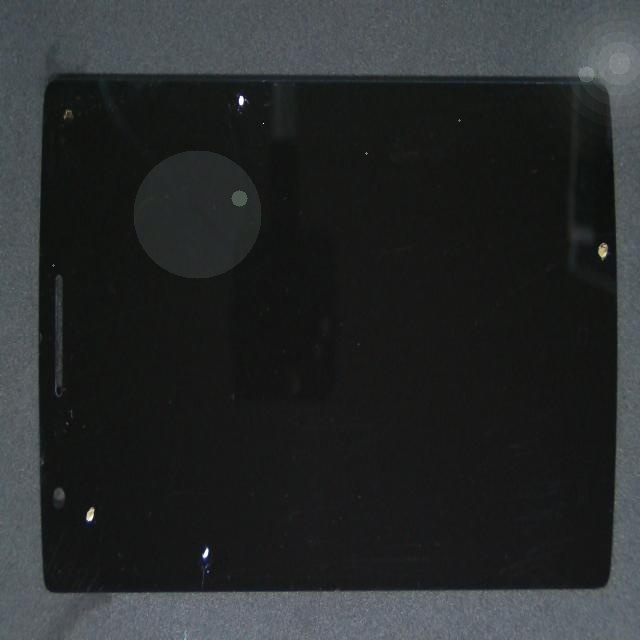stain: (94, 250, 292, 640), (36, 241, 117, 640), (113, 36, 349, 162)
